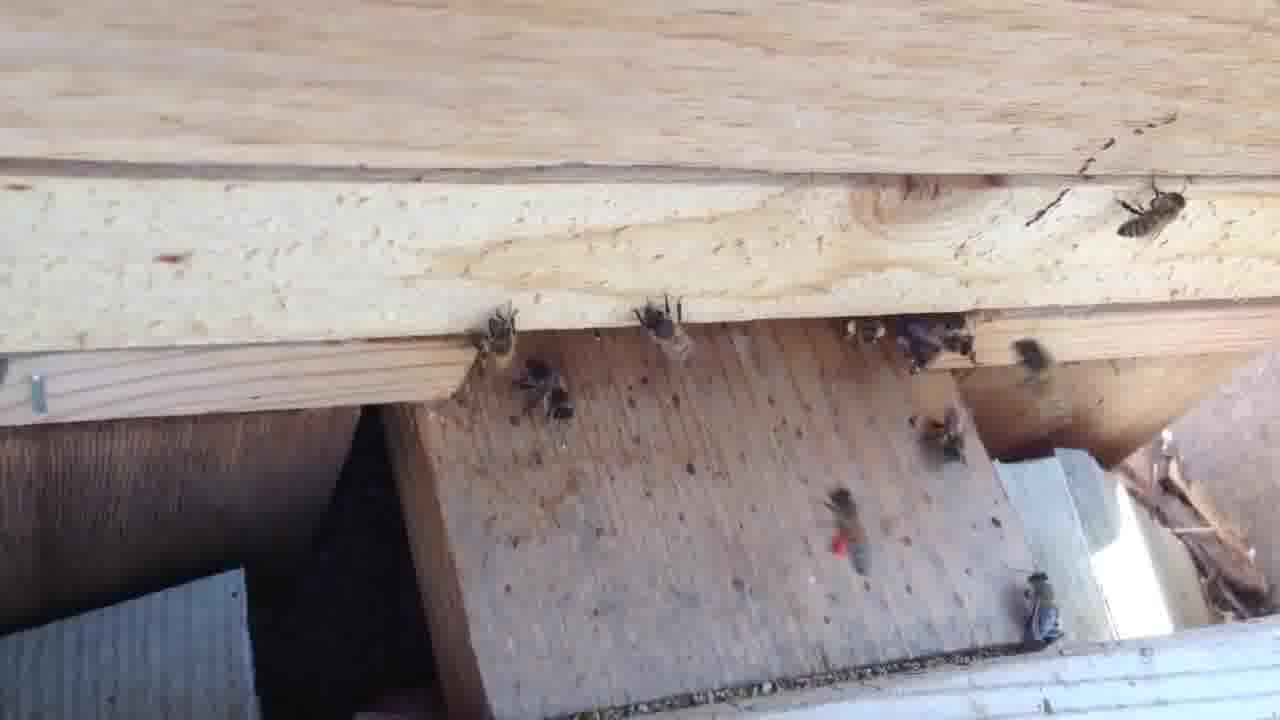pollen: (817, 489, 880, 579)
